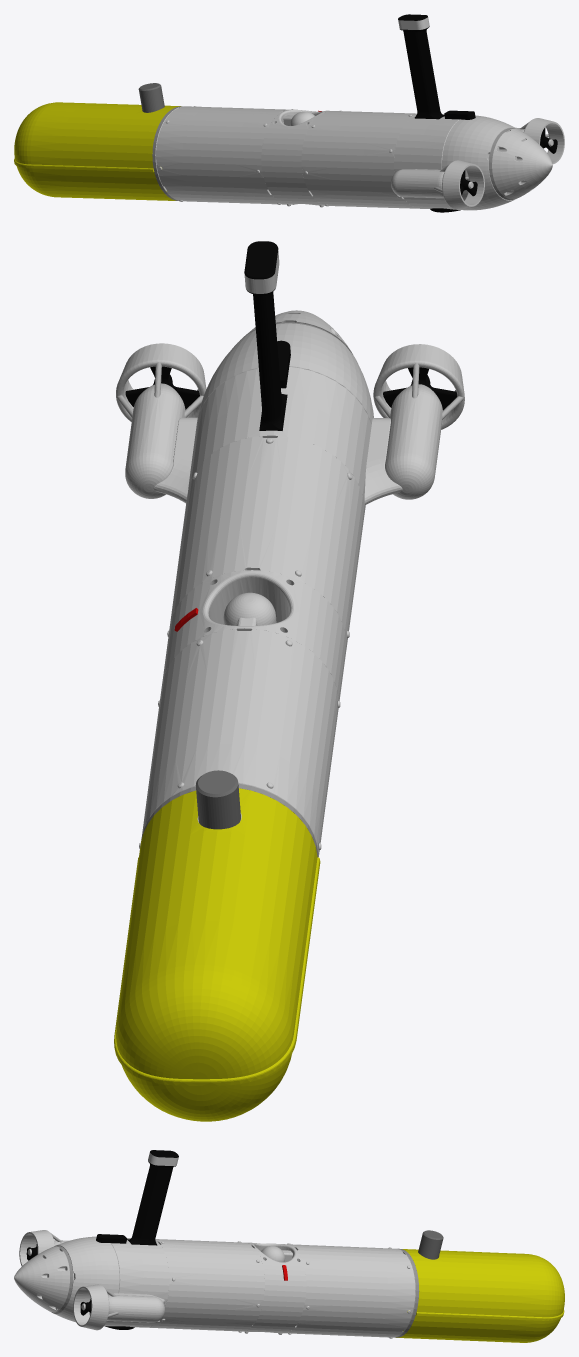
Rendered from afanc-submarine.glb.
The picture shows the model from 3 angles, top to bottom: view 1: azimuth 30°, elevation 25°; view 2: azimuth 150°, elevation 25°; view 3: azimuth 270°, elevation 25°; orthographic projection. The views are drawn at different scales.
Parts seen in each view (by area): view 1: mesh; view 2: mesh; view 3: mesh.
Part boxes in pixels (x1,y1,x2,y2): mesh: (14, 14, 564, 212); mesh: (114, 241, 464, 1121); mesh: (14, 1150, 564, 1342).
Bounding box in the file's own units: 0.8828 × 0.7473 × 1.42.
